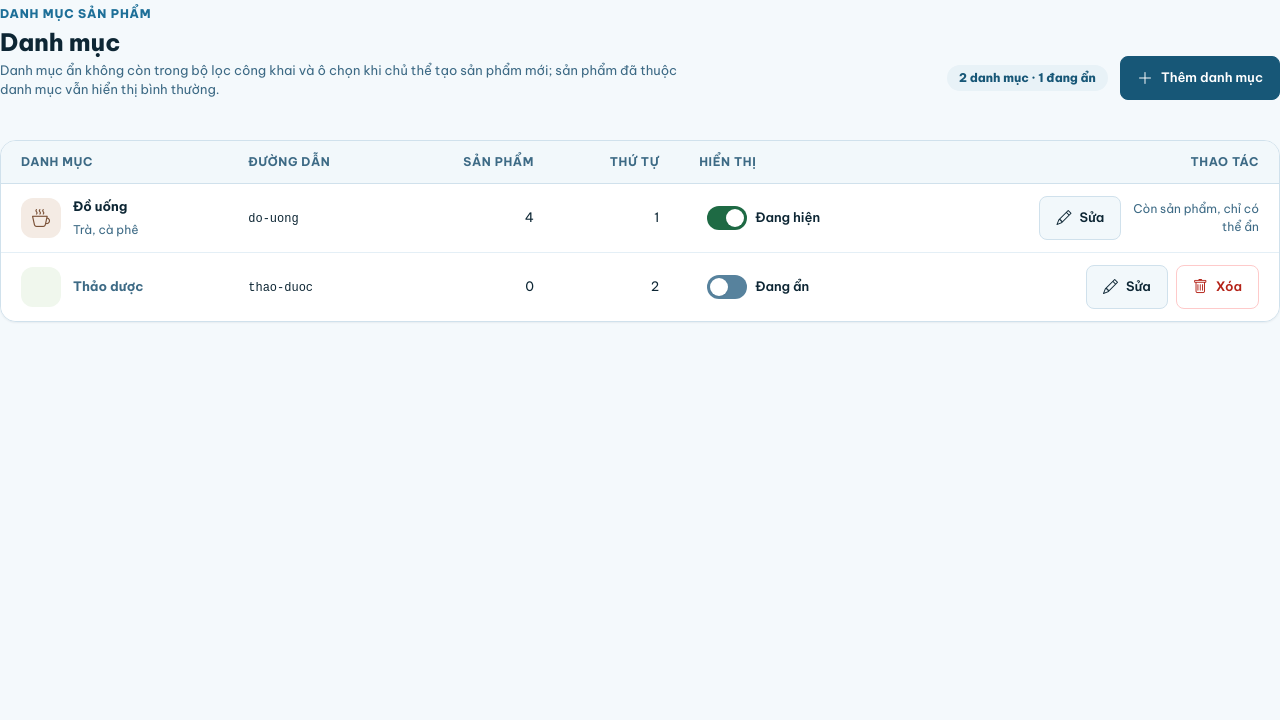
Test: AdminCategoriesView › xóa danh mục trống sau khi xác nhận
Click the button with aria-label "Xóa danh mục Thảo dược" at (1217, 287), box [1176,265,1259,309]
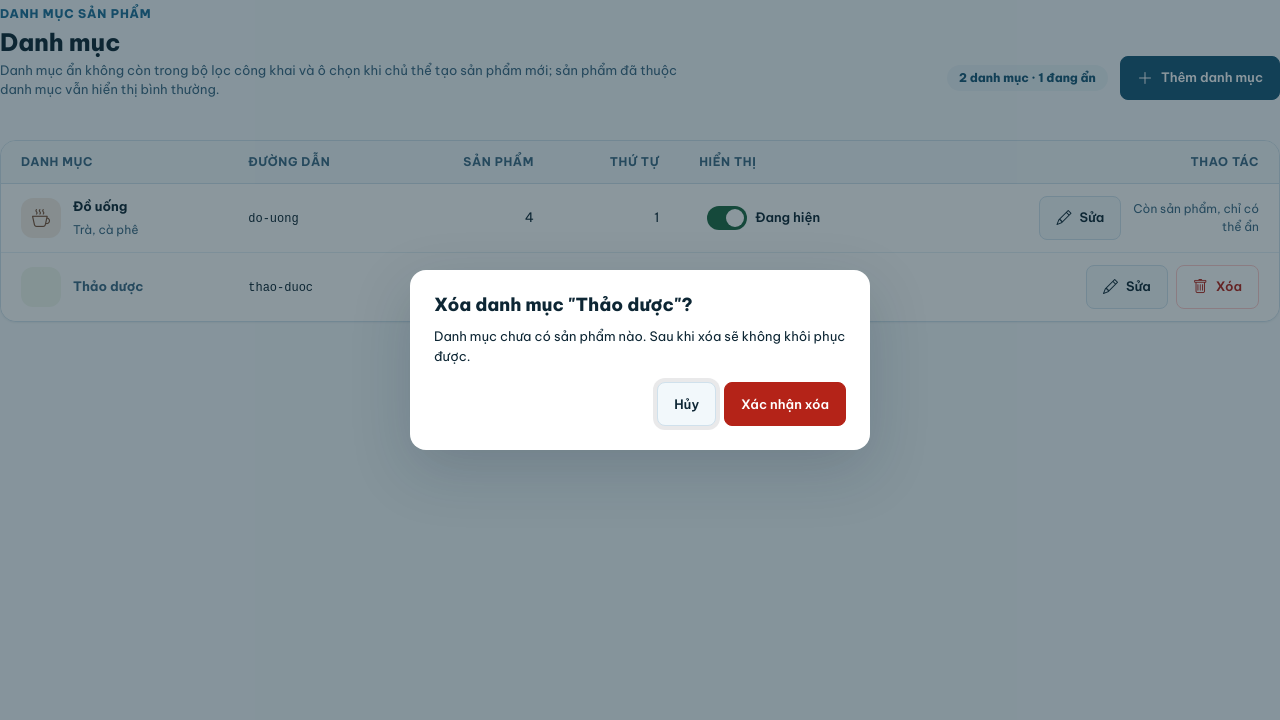
Now the dialog shows "Xóa danh mục \"Thảo dược\"?", box [434,293,693,316]
Click the button "Xác nhận xóa" at (785, 404), box [724,382,846,426]
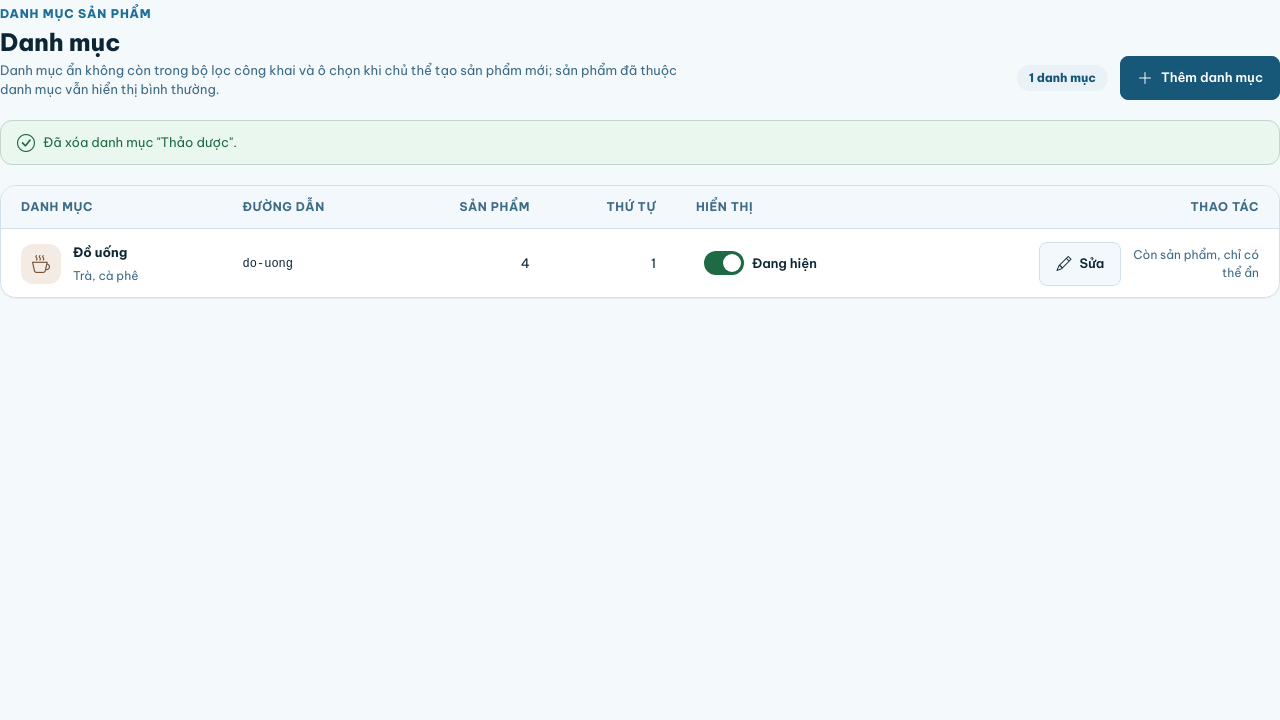
Now the text "Đã xóa danh mục \"Thảo dược\"." is shown, box [0,120,1279,165]
